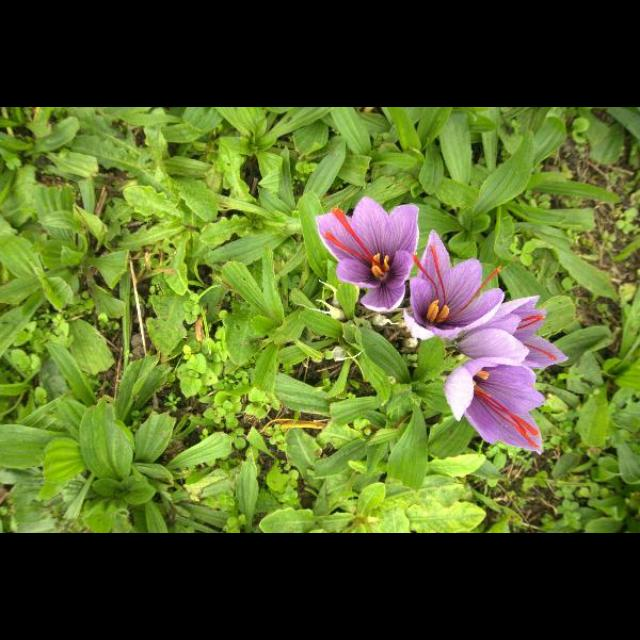flower: (314, 196, 422, 314), (403, 228, 507, 340), (444, 357, 546, 457), (457, 294, 569, 368)
